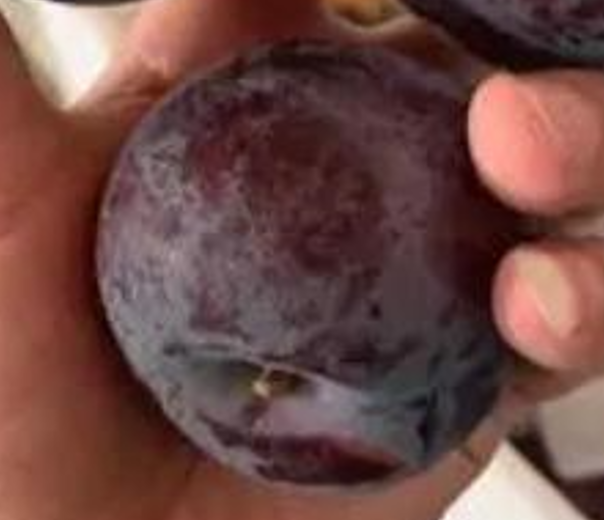plum_A: (92, 39, 528, 495)
